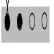correct: (16, 11, 23, 32)
no answer: (29, 10, 35, 32)
not correct: (5, 0, 10, 32)
